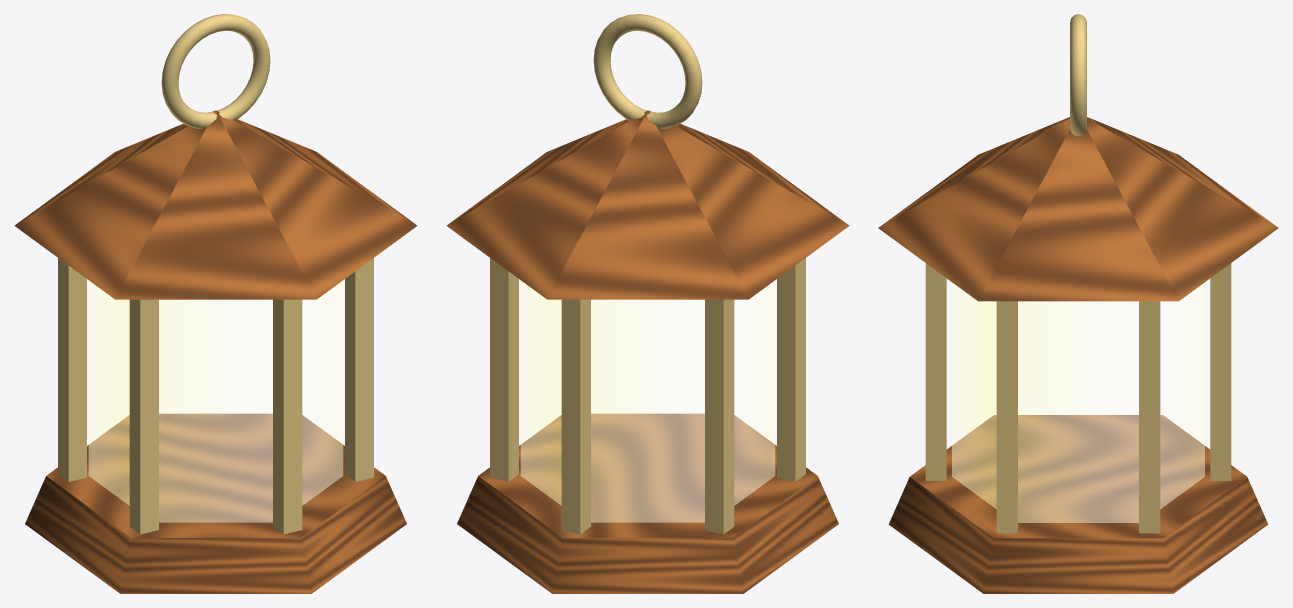
The model's file is lantern.gltf.
3 views of the same model, side by side, from view 1: azimuth 30°, elevation 25°; view 2: azimuth 150°, elevation 25°; view 3: azimuth 270°, elevation 25° (orthographic).
Visible parts, largest first — view 1: Roof, Base, Glass, Post 2, Post 3, Post 1, Post 4, Handle; view 2: Roof, Base, Glass, Post 5, Post 4, Post 3, Post 6, Handle; view 3: Roof, Base, Glass, Post 1, Post 6, Post 2, Post 5, Handle.
Part boxes in pixels (x1,y1,x2,y2): Roof: (14, 110, 417, 299); Base: (25, 413, 406, 593); Glass: (88, 281, 343, 522); Post 2: (273, 299, 302, 534); Post 3: (129, 299, 158, 534); Post 1: (345, 258, 373, 481); Post 4: (58, 258, 86, 481); Handle: (161, 14, 270, 128); Roof: (446, 110, 849, 299); Base: (457, 413, 838, 593); Glass: (520, 281, 775, 522); Post 5: (561, 299, 590, 534); Post 4: (705, 299, 734, 534); Post 3: (777, 258, 805, 481); Post 6: (490, 258, 518, 481); Handle: (593, 14, 702, 128); Roof: (878, 117, 1278, 301); Base: (888, 415, 1268, 593); Glass: (952, 282, 1204, 522); Post 1: (996, 301, 1017, 533); Post 6: (1139, 301, 1160, 533); Post 2: (925, 263, 946, 480); Post 5: (1210, 263, 1231, 480); Handle: (1070, 14, 1086, 136).
Size of the model in its own units: 0.3291 by 0.528 by 0.38.
3 materials, 1 textured.
